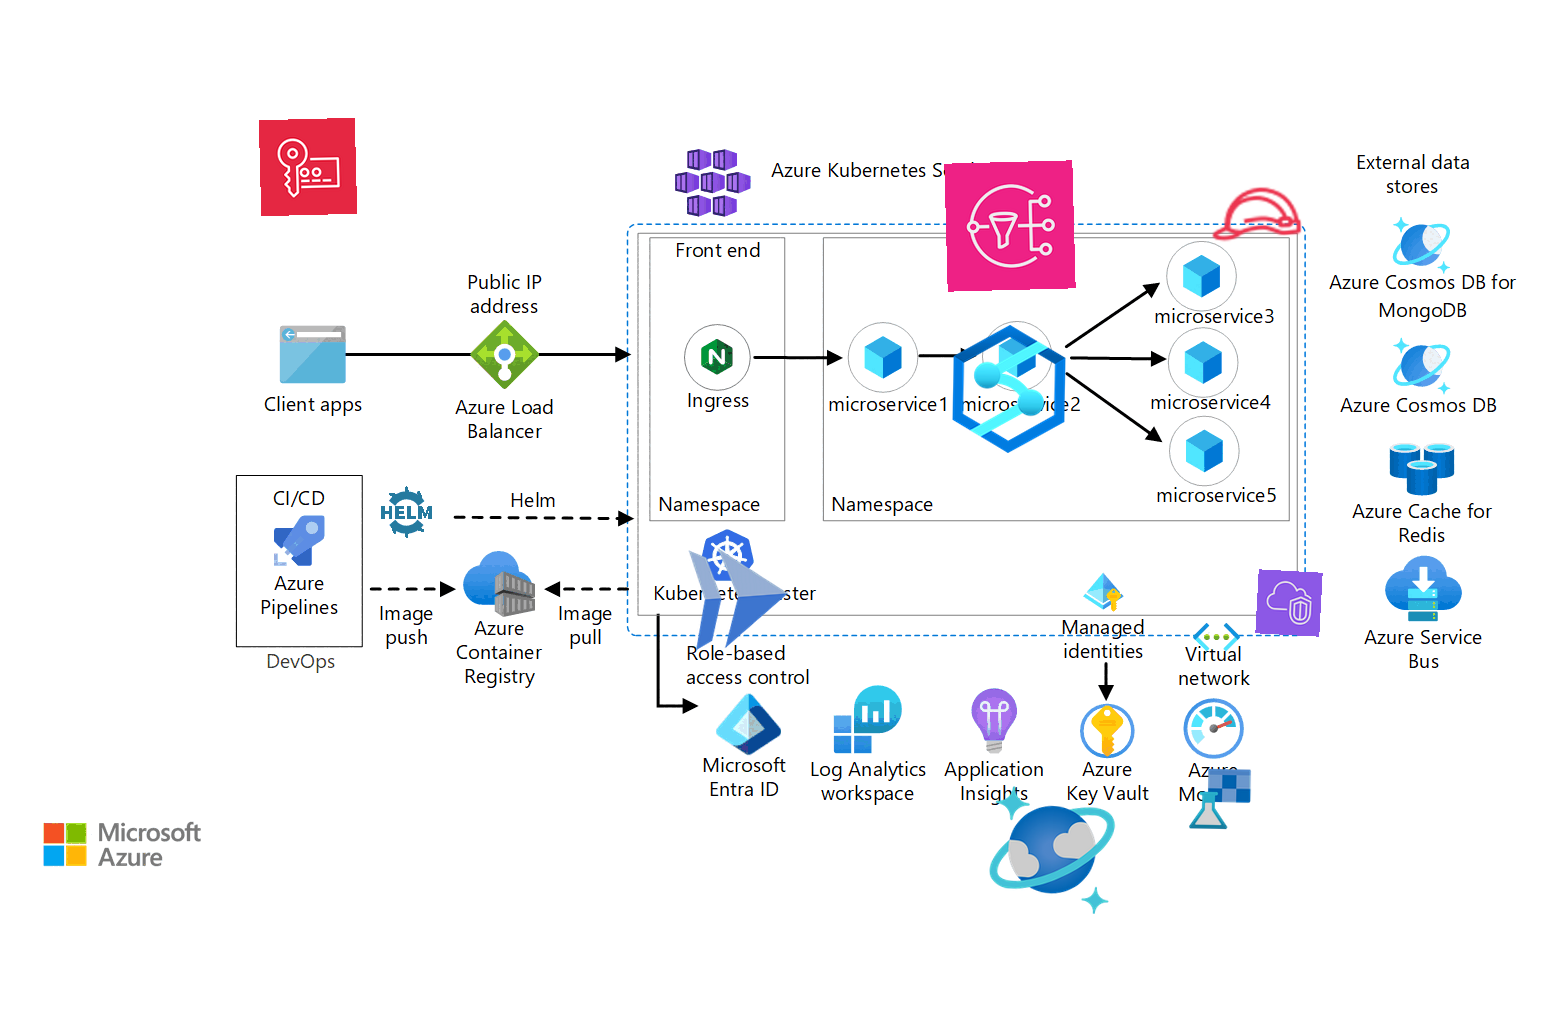aws_amazon_simple_notification_service: (944, 160, 1076, 292)
aws_amazon_virtual_private_cloud: (1255, 569, 1323, 637)
aws_identity_access_management_role: (1205, 163, 1307, 265)
aws_key_management_service: (258, 117, 357, 217)
azure_cosmos_db: (982, 781, 1122, 920)
azure_machine_learning_studio_workspaces: (1187, 766, 1253, 832)
azure_synapse_analytics: (943, 323, 1075, 455)
gcp_cloud_run: (669, 528, 807, 666)
